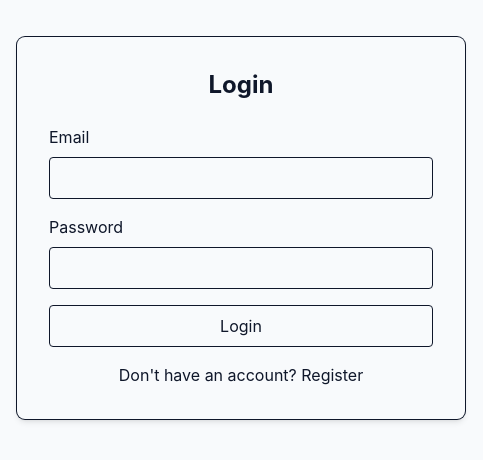
Test: Login › validates invalid email
The width and height of the screenshot is (483, 460).
Click the button "Login" at (241, 326), box [49,305,433,347]
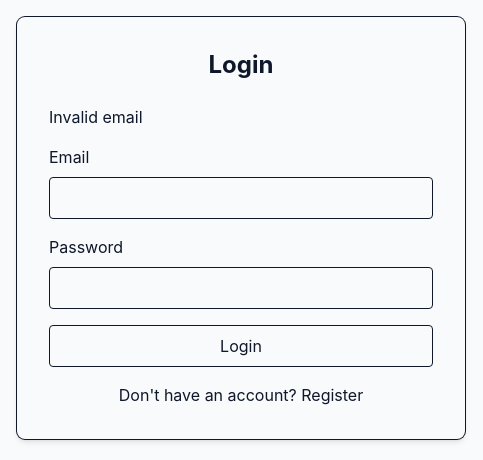
Expected: the text "Invalid email" is shown, [49,107,142,127]
